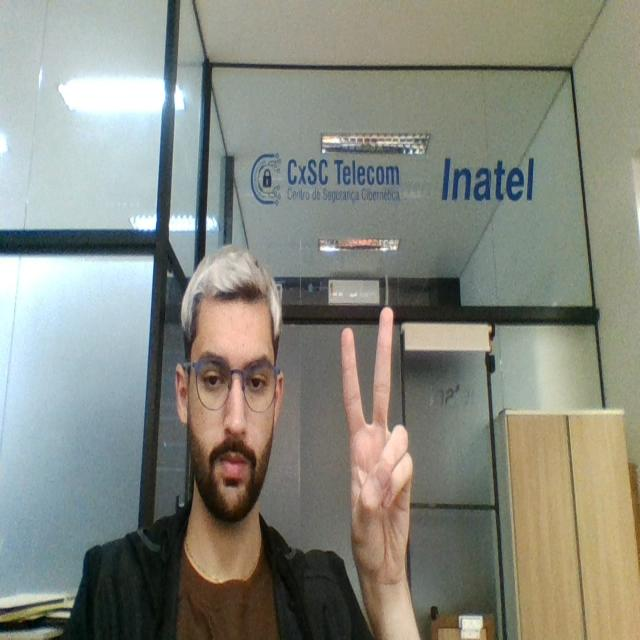V: (337, 304, 421, 590)
